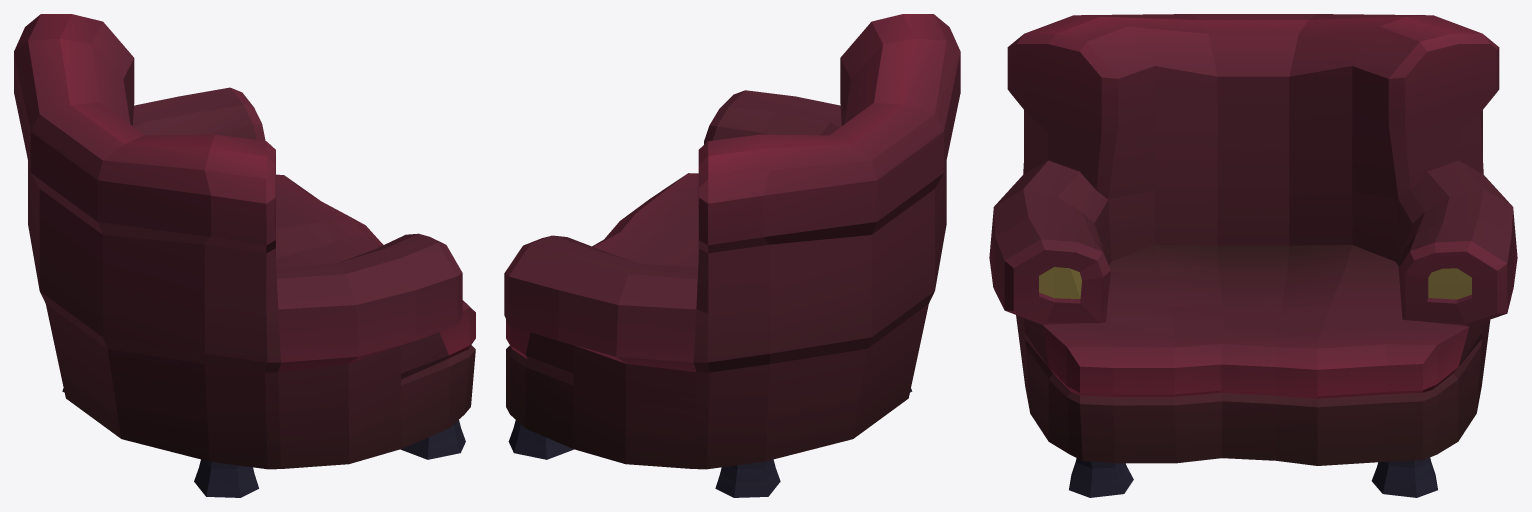
The model's file is Couch_0.fbx.
3 views of the same model, side by side, from view 1: azimuth 30°, elevation 25°; view 2: azimuth 150°, elevation 25°; view 3: azimuth 270°, elevation 25° (orthographic).
Visible parts, largest first — view 1: Couch_0; view 2: Couch_0; view 3: Couch_0.
Boxes of the visible parts, x1=… form: Couch_0: x1=14, y1=14, x2=475, y2=497; Couch_0: x1=504, y1=14, x2=960, y2=497; Couch_0: x1=989, y1=14, x2=1517, y2=497.
Size of the model in its own units: 131 by 132 by 177.
